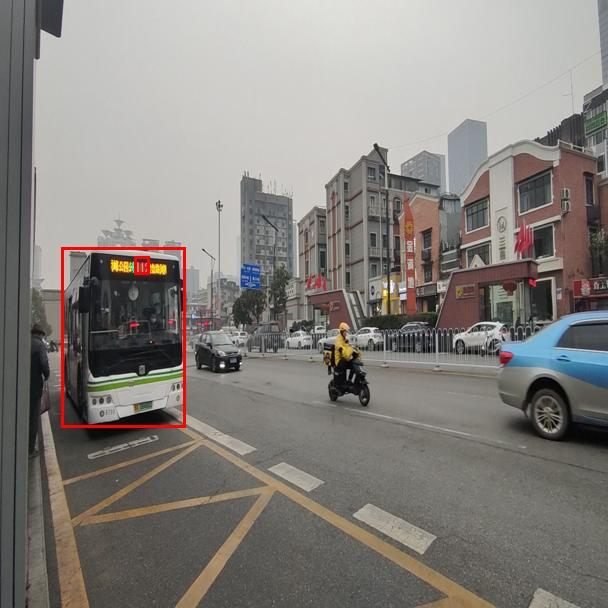bus: (61, 247, 185, 427)
screen: (134, 256, 149, 274)
